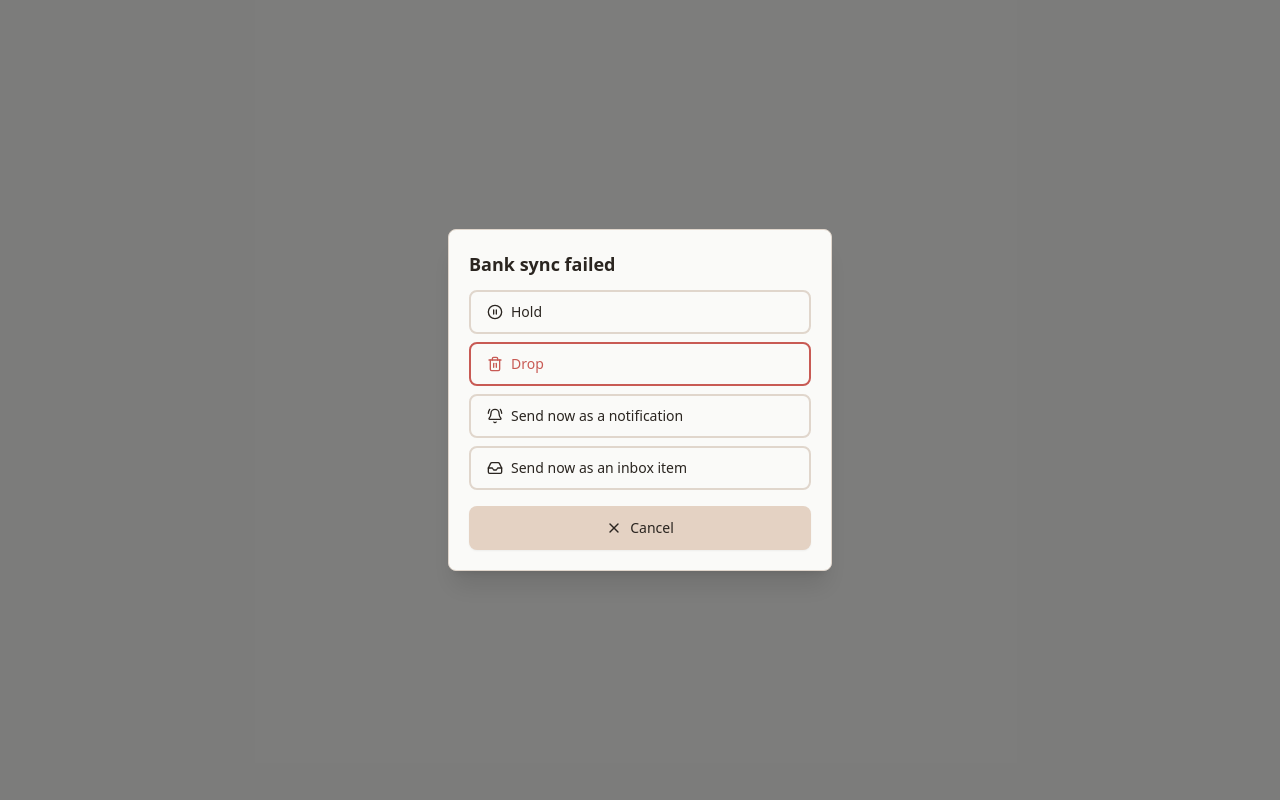
Test case: an error shows in the dialog and keeps it open
Click the button "Drop". click: (527, 364)
box: x1=469 y1=342 x2=811 y2=386
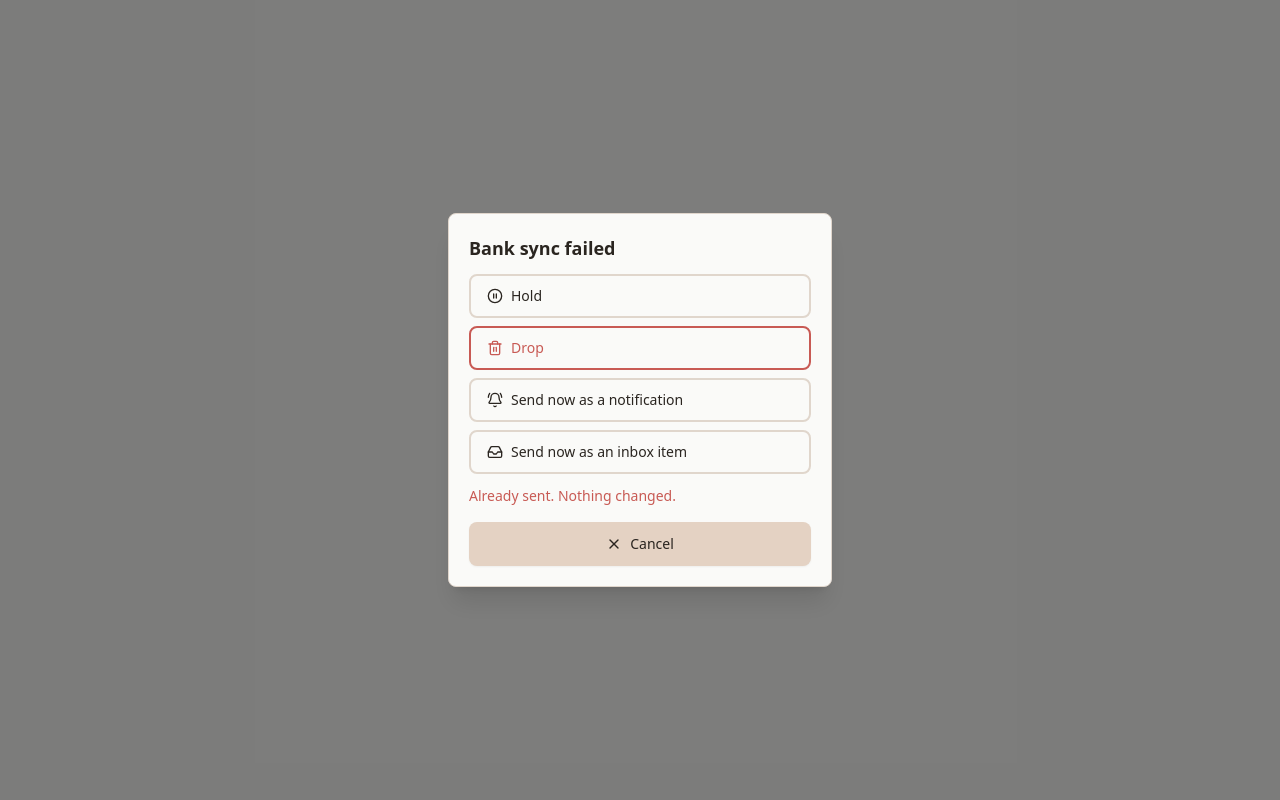
Expected: the dialog is shown, x1=448 y1=213 x2=832 y2=587
Expected: the message reads "Already sent. Nothing changed.", x1=469 y1=486 x2=676 y2=505
